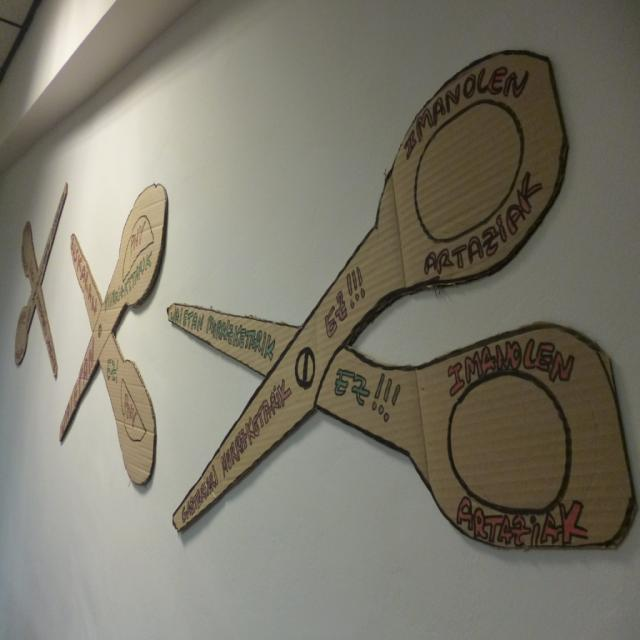scissors: (161, 31, 595, 568), (55, 152, 177, 519), (14, 181, 68, 379)
